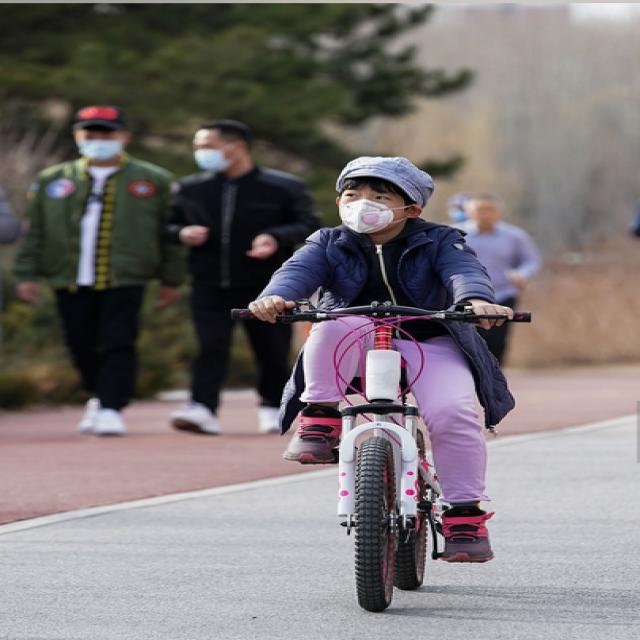hat: (336, 156, 434, 206), (73, 108, 133, 134)
